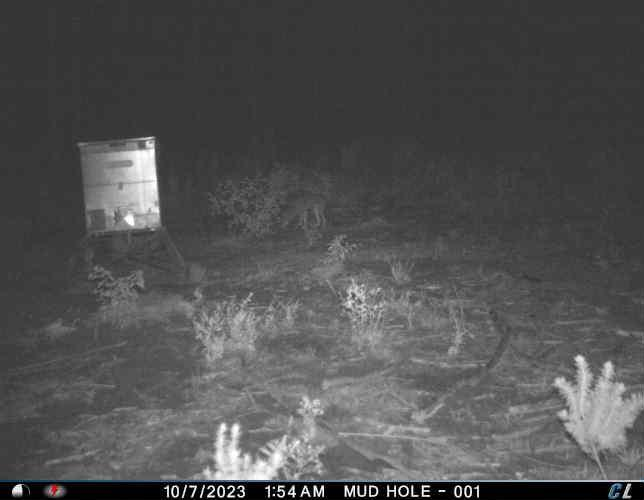Coyote: (278, 192, 327, 233)
